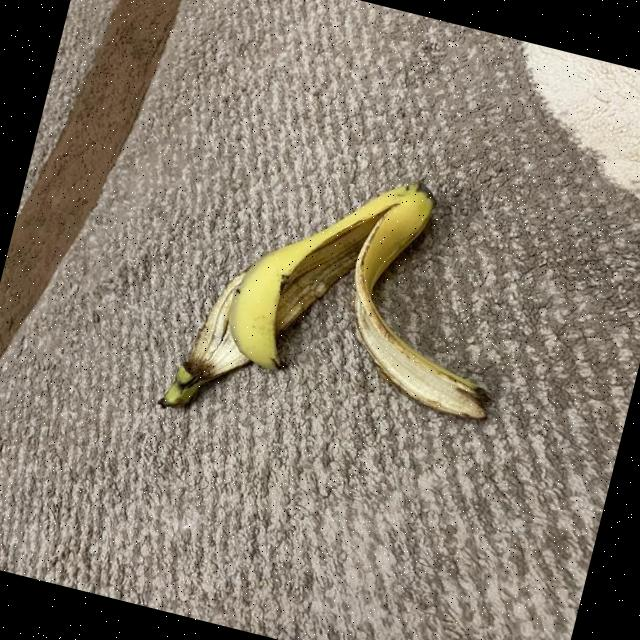banana-peel: (155, 130, 540, 483)
